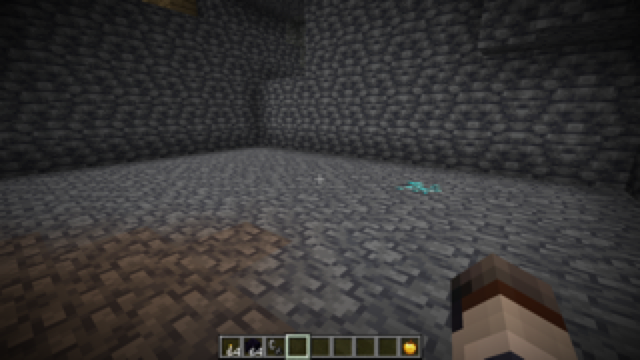diamond: (393, 179, 446, 198)
